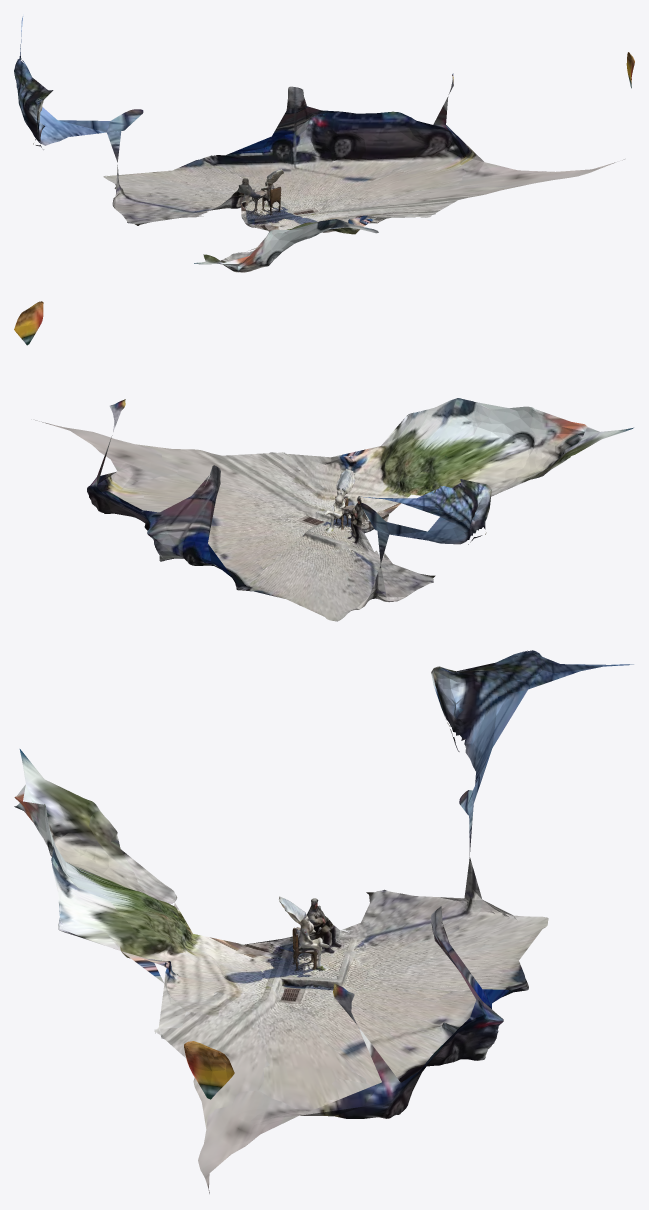
The model's file is choco.glb.
3 renders of one model, top to bottom at view 1: azimuth 30°, elevation 25°; view 2: azimuth 150°, elevation 25°; view 3: azimuth 270°, elevation 25°, orthographic. The views are drawn at different scales.
Parts seen in each view (by area): view 1: choco_frito; view 2: choco_frito; view 3: choco_frito.
Part boxes in pixels (x1,y1,x2,y2): choco_frito: (14, 16, 634, 272); choco_frito: (14, 301, 633, 621); choco_frito: (14, 650, 633, 1193).
Bounding box in the file's own units: 18.19 × 5.32 × 13.11.
1 material, 1 textured.
